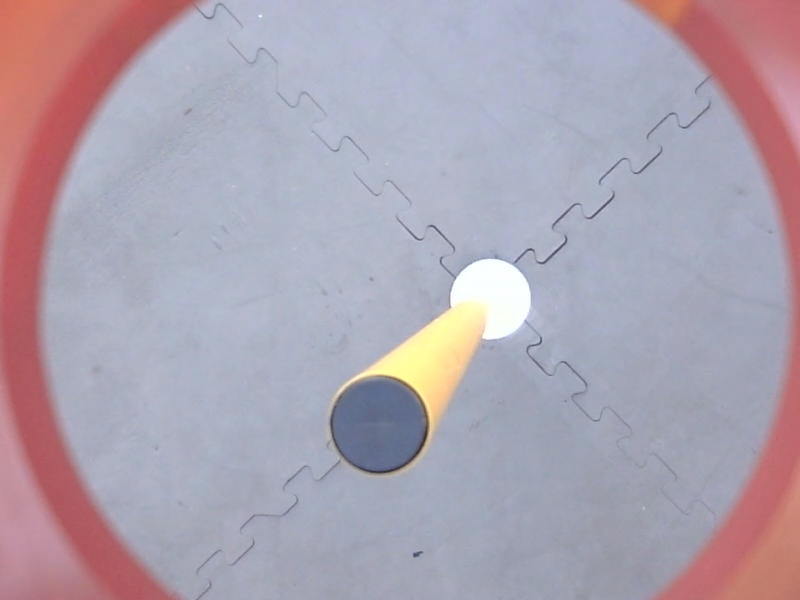tip: (325, 369, 436, 481)
